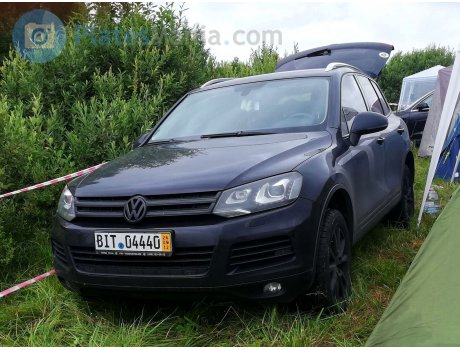License Plates: (94, 230, 162, 247)
